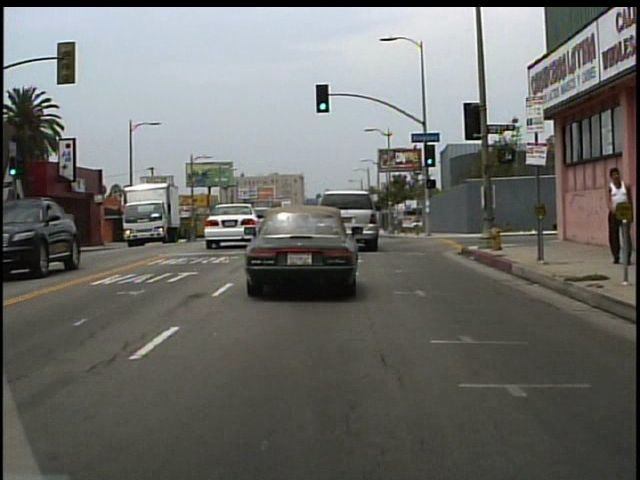person: (600, 166, 635, 268)
